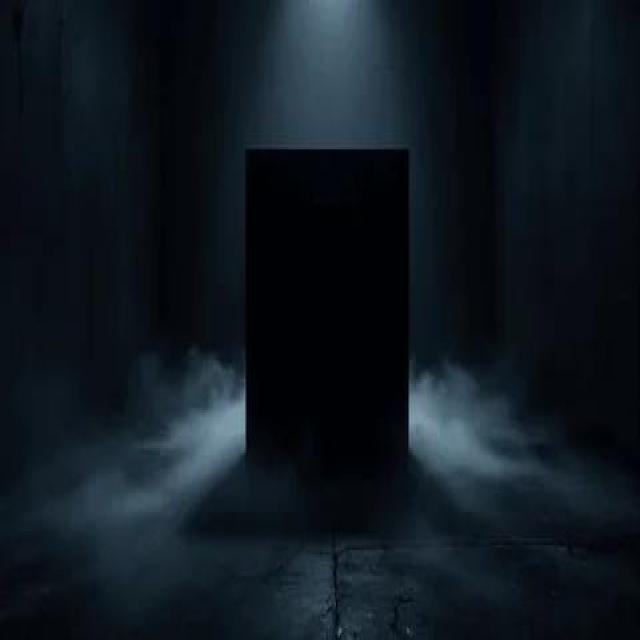box: (242, 144, 411, 526)
